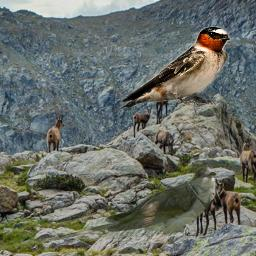Cuckoo: (43, 165, 217, 244)
Swallow: (119, 25, 231, 109)
